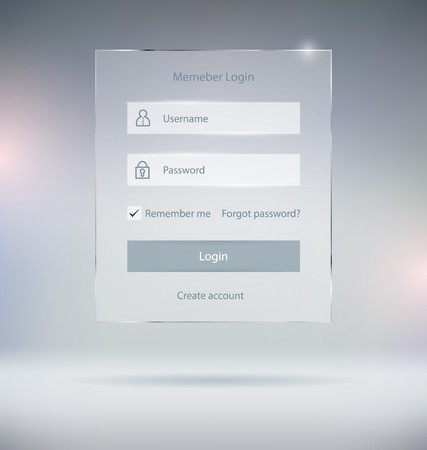_form_: (1, 1, 416, 416)
button: (125, 239, 301, 274)
checkbox: (124, 204, 144, 222)
checkbox_with_label: (123, 202, 301, 224)
field: (126, 153, 302, 188), (125, 101, 301, 135)
